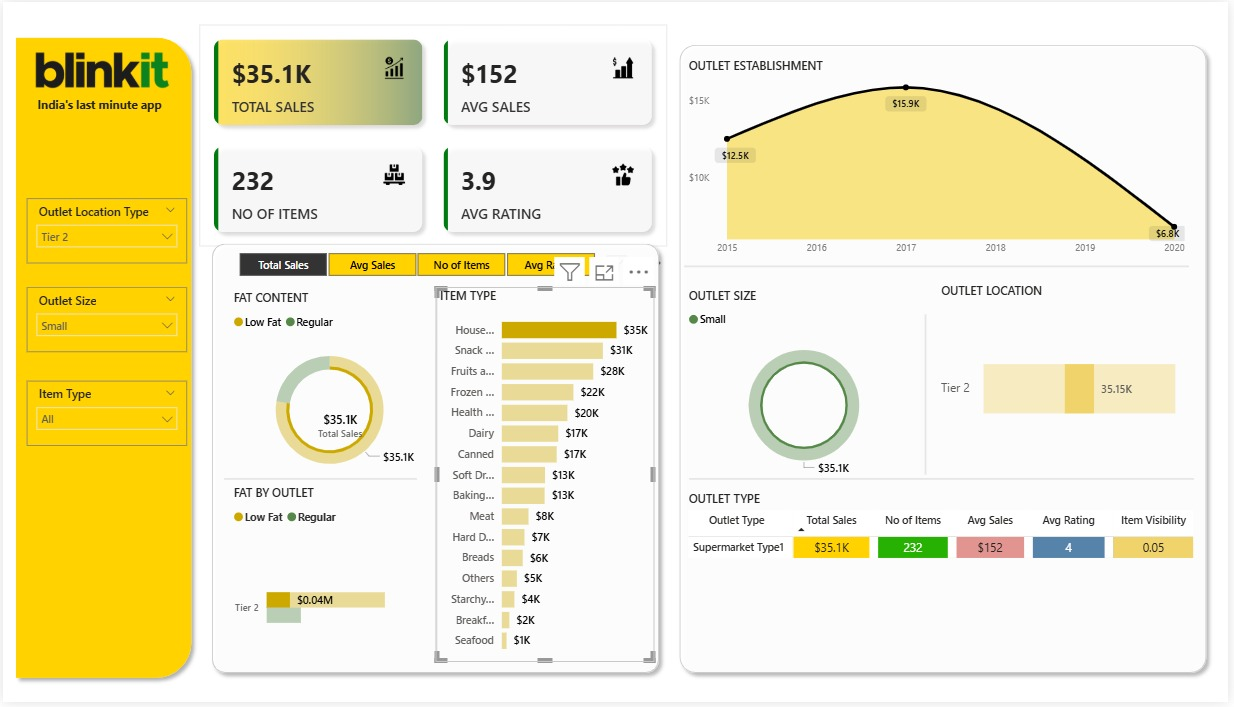

Layout of this report page (visuals, bound fields, positions):
{"tool":"powerbi","page":{"name":"Page 1","canvas":[1400,800],"ordinal":0},"visuals":[{"type":"shape","box":[8.6,0,218.6,750],"z":0},{"type":"textbox","box":[34.3,102.9,158.6,32.9],"z":1000},{"type":"image","box":[17.1,40,192.9,80],"z":2000},{"type":"cardVisual","fields":{"Data":["BlinkIT Grocery Data.Total Sales","BlinkIT Grocery Data.Avg Sales","BlinkIT Grocery Data.No of Items","BlinkIT Grocery Data.Avg Rating"]},"box":[224.3,25.7,534.3,254.3],"z":3000},{"type":"shape","box":[230,267.1,528.6,508.6],"z":4000},{"type":"donutChart","title":"FAT CONTENT","fields":{"Y":["BlinkIT Grocery Data.Total Sales"],"Category":["BlinkIT Grocery Data.Item Fat Content"]},"box":[258.6,328.6,230,230],"z":5000},{"type":"slicer","fields":{"Values":["Metric.Metric"]},"box":[244.3,280,455.7,37.1],"z":6000},{"type":"cardVisual","fields":{"Data":["BlinkIT Grocery Data.Total Sales"]},"box":[332.9,451.4,105.7,58.6],"z":7000},{"type":"clusteredBarChart","title":"FAT BY OUTLET","fields":{"Y":["BlinkIT Grocery Data.Total Sales"],"Category":["BlinkIT Grocery Data.Outlet Location Type"],"Series":["BlinkIT Grocery Data.Item Fat Content"]},"box":[258.6,551.4,220,230],"z":8000},{"type":"shape","box":[252.9,538.6,220,12.9],"z":9000},{"type":"shape","box":[475.7,325.7,40,428.6],"z":10000},{"type":"barChart","title":"ITEM TYPE","fields":{"Y":["BlinkIT Grocery Data.Total Sales"],"Category":["BlinkIT Grocery Data.Item Type"]},"box":[494.3,325.7,250,428.6],"z":11000},{"type":"shape","box":[764.3,40,620,735.7],"z":12000},{"type":"lineChart","title":"OUTLET ESTABLISHMENT","fields":{"Category":["BlinkIT Grocery Data.Outlet Establishment Year"],"Y":["BlinkIT Grocery Data.Total Sales"]},"box":[778.6,62.9,577.1,235.7],"z":13000},{"type":"shape","box":[778.6,287.1,577.1,30],"z":14000},{"type":"donutChart","title":"OUTLET SIZE","fields":{"Y":["BlinkIT Grocery Data.Total Sales"],"Category":["BlinkIT Grocery Data.Outlet Size"]},"box":[778.6,325.7,274,225],"z":15000},{"type":"shape","box":[1034.3,357.1,40,182.9],"z":16000},{"type":"funnel","title":"OUTLET LOCATION","fields":{"Y":["Sum(BlinkIT Grocery Data.Sales)"],"Category":["BlinkIT Grocery Data.Outlet Location Type"]},"box":[1067.1,320,282.9,225.7],"z":17000},{"type":"shape","box":[784.3,530,577.1,30],"z":18000},{"type":"pivotTable","title":"OUTLET TYPE","fields":{"Rows":["BlinkIT Grocery Data.Outlet Type"],"Values":["BlinkIT Grocery Data.Total Sales","BlinkIT Grocery Data.No of Items","BlinkIT Grocery Data.Avg Sales","BlinkIT Grocery Data.Avg Rating","Avg(BlinkIT Grocery Data.Item Visibility)"]},"box":[778.6,558.6,605.7,195.7],"z":19000},{"type":"slicer","fields":{"Values":["BlinkIT Grocery Data.Outlet Location Type"]},"box":[27.1,224.3,182.9,74.3],"z":20000},{"type":"slicer","fields":{"Values":["BlinkIT Grocery Data.Outlet Size"]},"box":[27.1,325.7,182.9,74.3],"z":21000},{"type":"slicer","fields":{"Values":["BlinkIT Grocery Data.Item Type"]},"box":[27.1,432.9,182.9,74.3],"z":22000}]}

Visuals, with their boxes in screenshot pixels (x1, y1, x2, y2), scaled from the page's 1400x800 canvas onto the 1234x707 screenshot:
shape: detection(8, 0, 200, 663)
textbox: detection(30, 91, 170, 120)
image: detection(15, 35, 185, 106)
cardVisual - BlinkIT Grocery Data.Total Sales x BlinkIT Grocery Data.Avg Sales: detection(198, 23, 669, 247)
shape: detection(203, 236, 669, 686)
"FAT CONTENT" donutChart: detection(228, 290, 431, 494)
slicer - Metric.Metric: detection(215, 247, 617, 280)
cardVisual - BlinkIT Grocery Data.Total Sales: detection(293, 399, 387, 451)
"FAT BY OUTLET" clusteredBarChart: detection(228, 487, 422, 691)
shape: detection(223, 476, 417, 487)
shape: detection(419, 288, 455, 667)
"ITEM TYPE" barChart: detection(436, 288, 656, 667)
shape: detection(674, 35, 1220, 686)
"OUTLET ESTABLISHMENT" lineChart: detection(686, 56, 1195, 264)
shape: detection(686, 254, 1195, 280)
"OUTLET SIZE" donutChart: detection(686, 288, 928, 487)
shape: detection(912, 316, 947, 477)
"OUTLET LOCATION" funnel: detection(941, 283, 1190, 482)
shape: detection(691, 468, 1200, 495)
"OUTLET TYPE" pivotTable: detection(686, 494, 1220, 667)
slicer - BlinkIT Grocery Data.Outlet Location Type: detection(24, 198, 185, 264)
slicer - BlinkIT Grocery Data.Outlet Size: detection(24, 288, 185, 354)
slicer - BlinkIT Grocery Data.Item Type: detection(24, 383, 185, 448)
